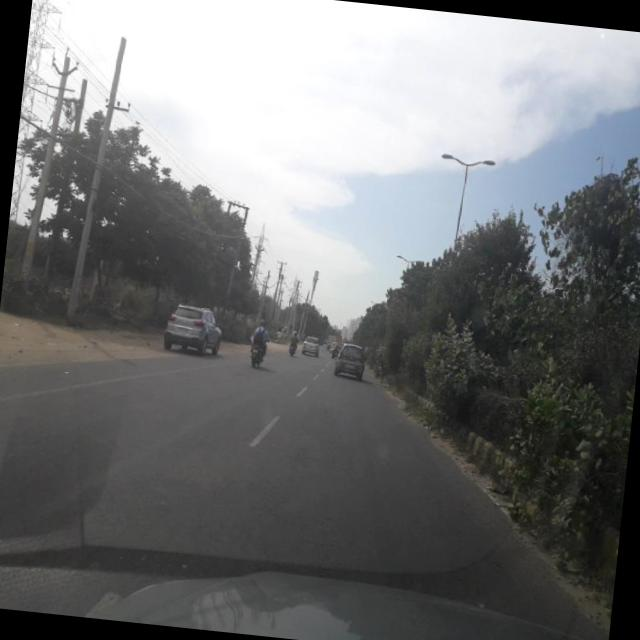crack: (0, 356, 541, 589)
